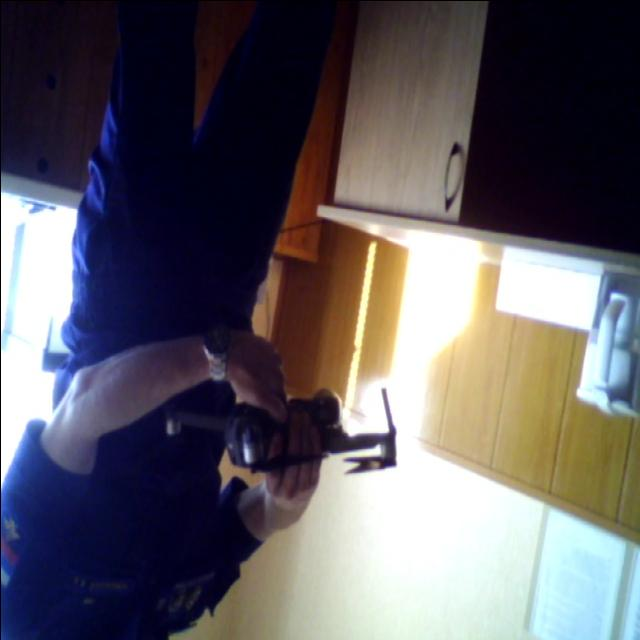drone: (134, 324, 406, 512)
